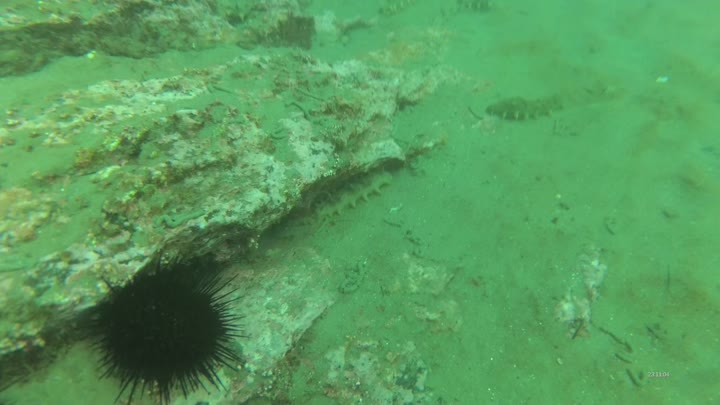echinus: (82, 249, 253, 405)
holothurian: (314, 167, 396, 220), (486, 96, 566, 123), (385, 1, 421, 17), (455, 1, 499, 13)
